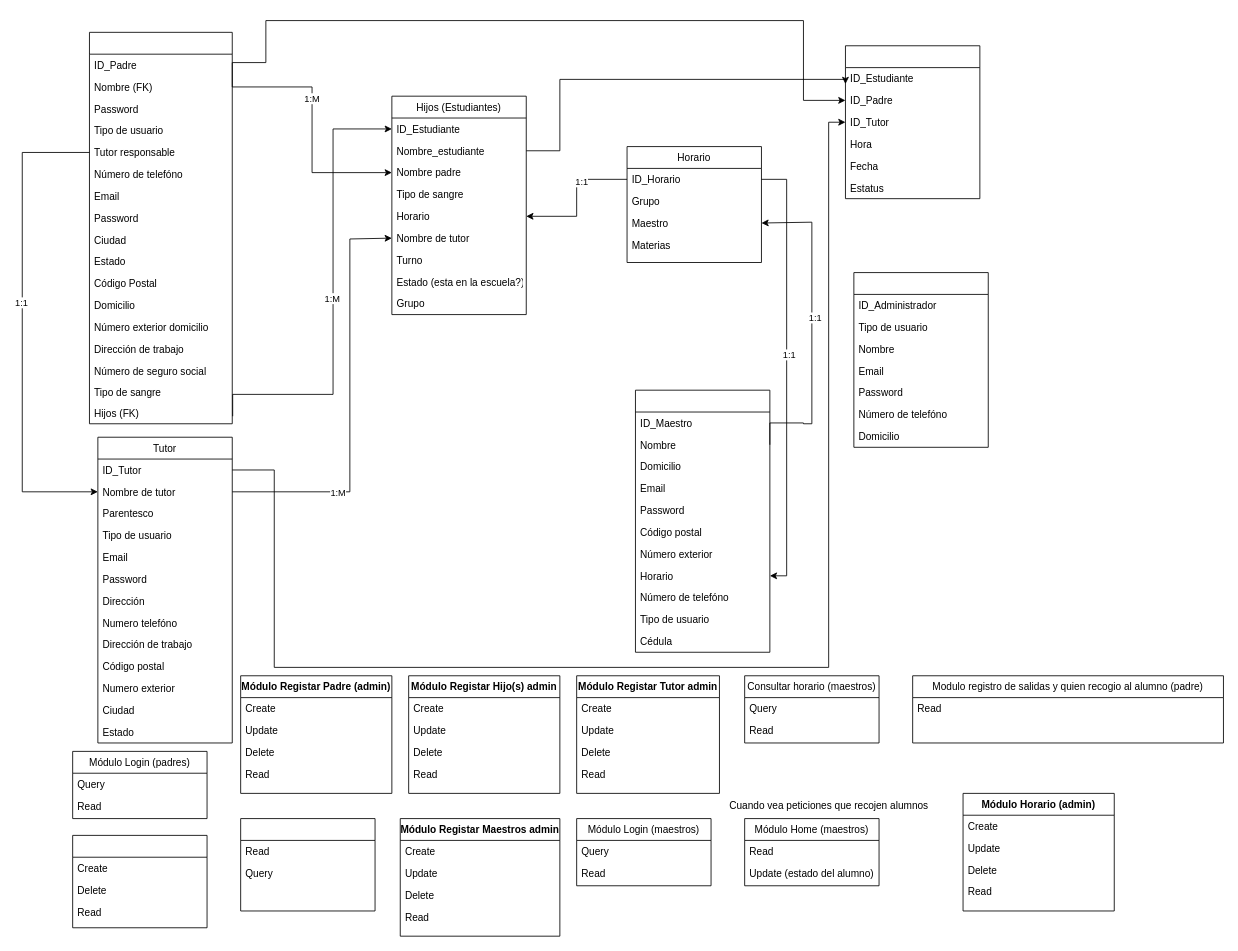
Image size: 1238x951. Some labels were removed from this diagram. The box of each missing label's shape, as (x1, y1, x2, y2) in pixels:
Administradores: (853, 272, 988, 447)
Consultar horario (padres): (240, 818, 375, 911)
Módulo Obtener QR (padres): (72, 835, 207, 928)
Padres: (89, 32, 232, 424)
Profesores: (635, 389, 770, 652)
Registro de entradas y salida: (845, 45, 980, 199)
